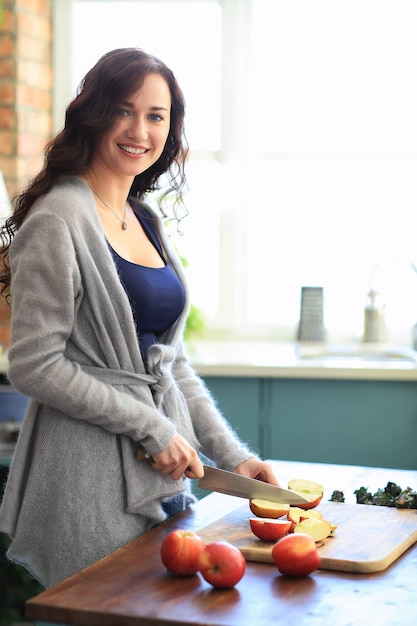knife: (198, 467, 313, 505)
